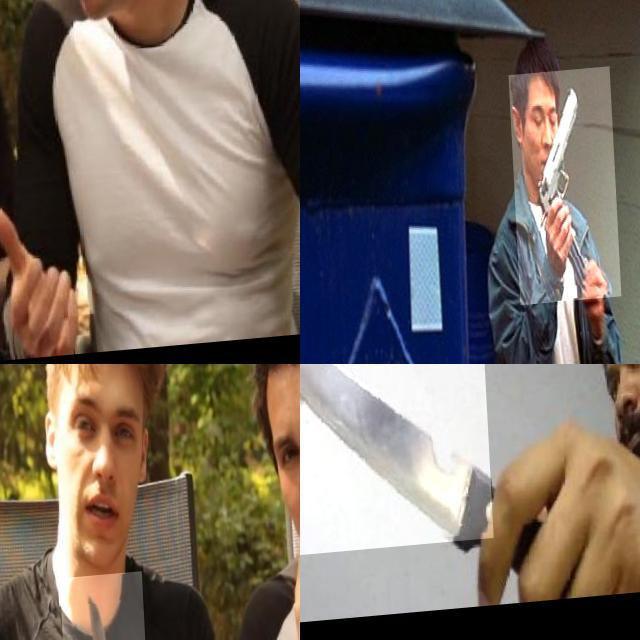-: (300, 364, 487, 560), (0, 71, 45, 255), (56, 575, 146, 640)
gun-knife-thesis - v11 Yolov5 augmented: (506, 76, 616, 313)
